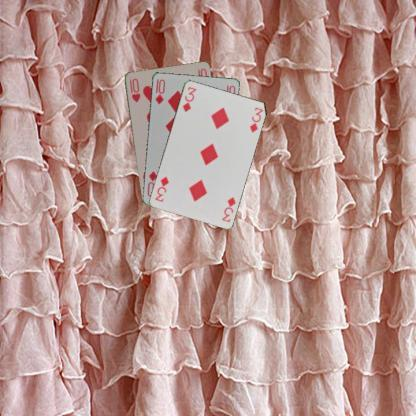10d: (152, 76, 166, 105)
10h: (127, 76, 142, 103)
3d: (180, 84, 198, 113), (219, 194, 237, 223)
